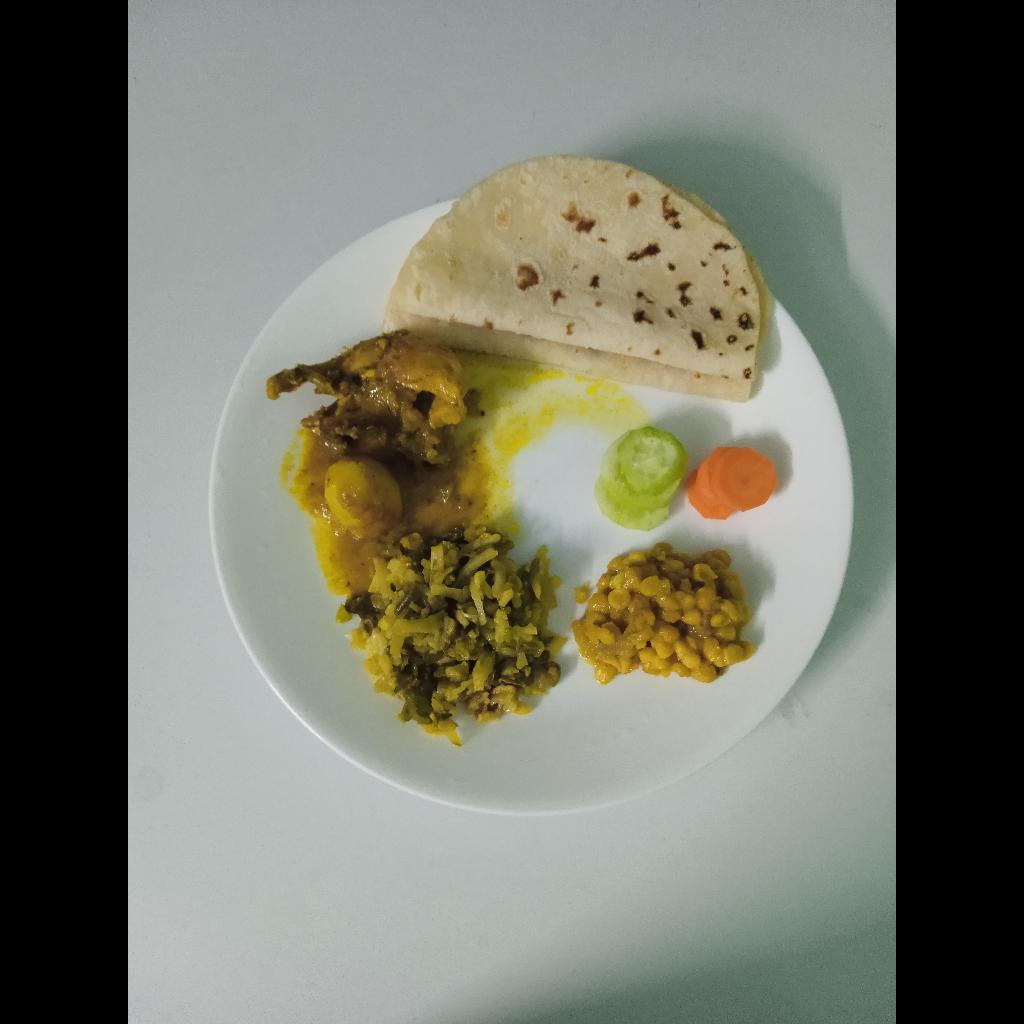carrot: (688, 441, 779, 522)
chicken: (266, 335, 469, 457)
cucumber: (595, 428, 689, 532)
daal: (580, 553, 743, 683)
potato: (322, 454, 404, 542)
ruti: (392, 158, 759, 393)
vegetable: (336, 534, 559, 746)
